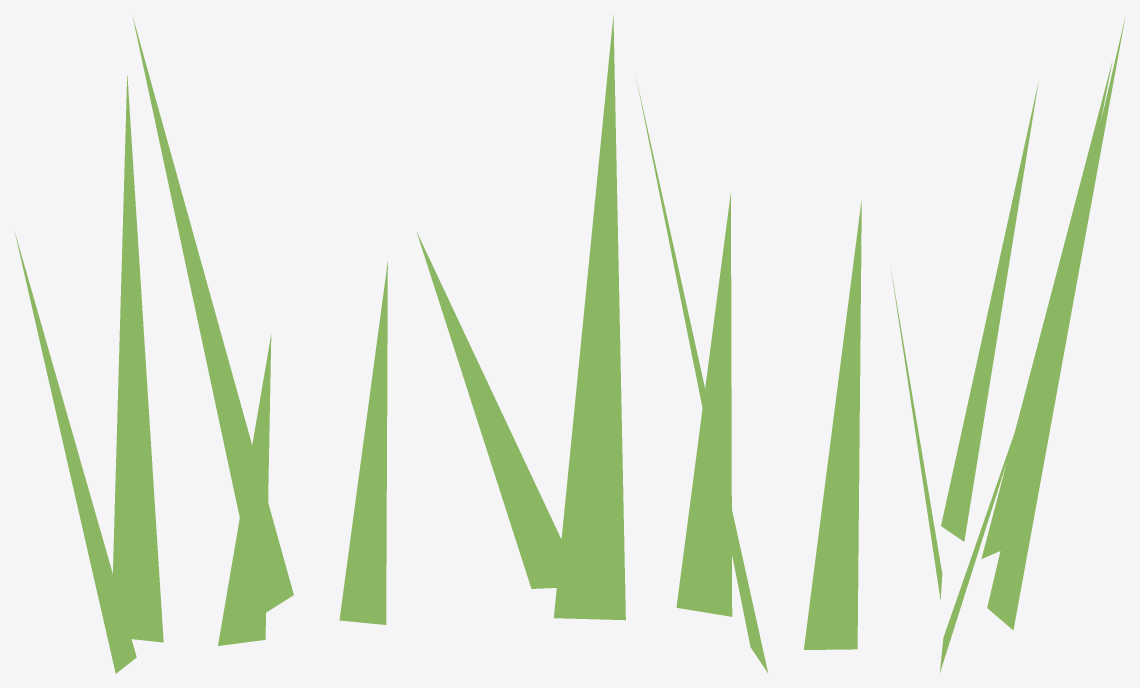
Rendered from Grass_d_OneS_04.fbx.
3 renders of one model, left to right at view 1: azimuth 30°, elevation 25°; view 2: azimuth 150°, elevation 25°; view 3: azimuth 270°, elevation 25°, orthographic. The views are drawn at different scales.
Visible parts, largest first — view 1: Grass_d_OneS_04; view 2: Grass_d_OneS_04; view 3: Grass_d_OneS_04.
Part boxes in pixels (left/top/right/bottom): Grass_d_OneS_04: left=15, top=15, right=387, bottom=673; Grass_d_OneS_04: left=416, top=15, right=861, bottom=673; Grass_d_OneS_04: left=890, top=16, right=1125, bottom=673.
Bounding box in the file's own units: 0.3187 × 0.4782 × 0.1758.
